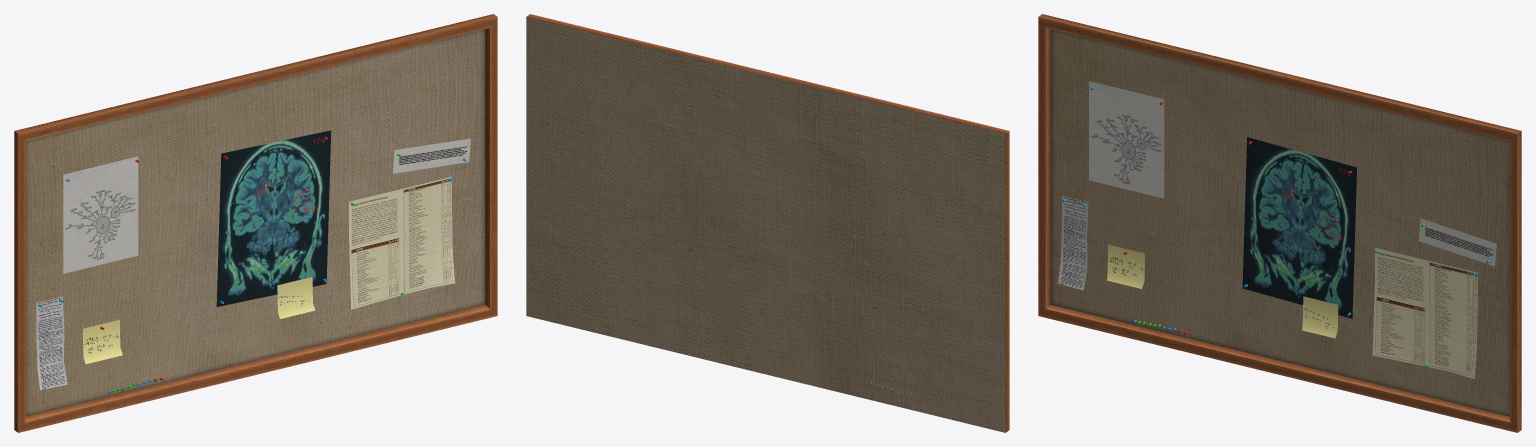
The model's file is bulletin_board01.dae.
3 renders of one model, left to right at view 1: azimuth 30°, elevation 25°; view 2: azimuth 150°, elevation 25°; view 3: azimuth 330°, elevation 25°, orthographic.
Parts seen in each view (by area): view 1: polySurface60; view 2: polySurface60; view 3: polySurface60.
Boxes of the visible parts, x1,y1,x2,y2 form: polySurface60: (14, 14, 497, 432); polySurface60: (526, 14, 1009, 432); polySurface60: (1038, 14, 1521, 432).
Bounding box in the file's own units: 174 × 104 × 4.42.
